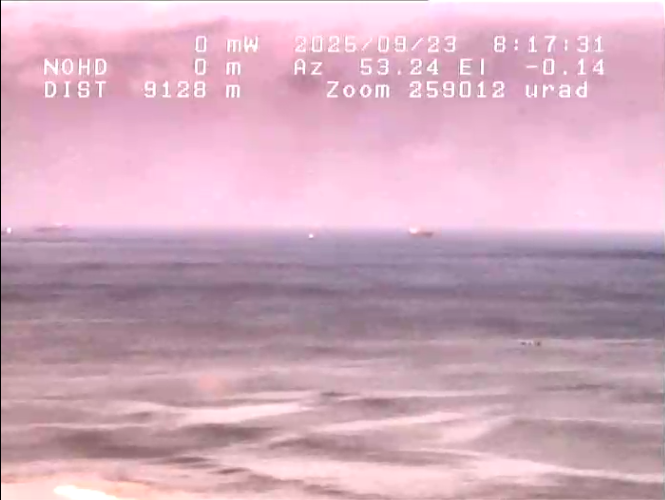TANKER: (401, 224, 443, 241)
